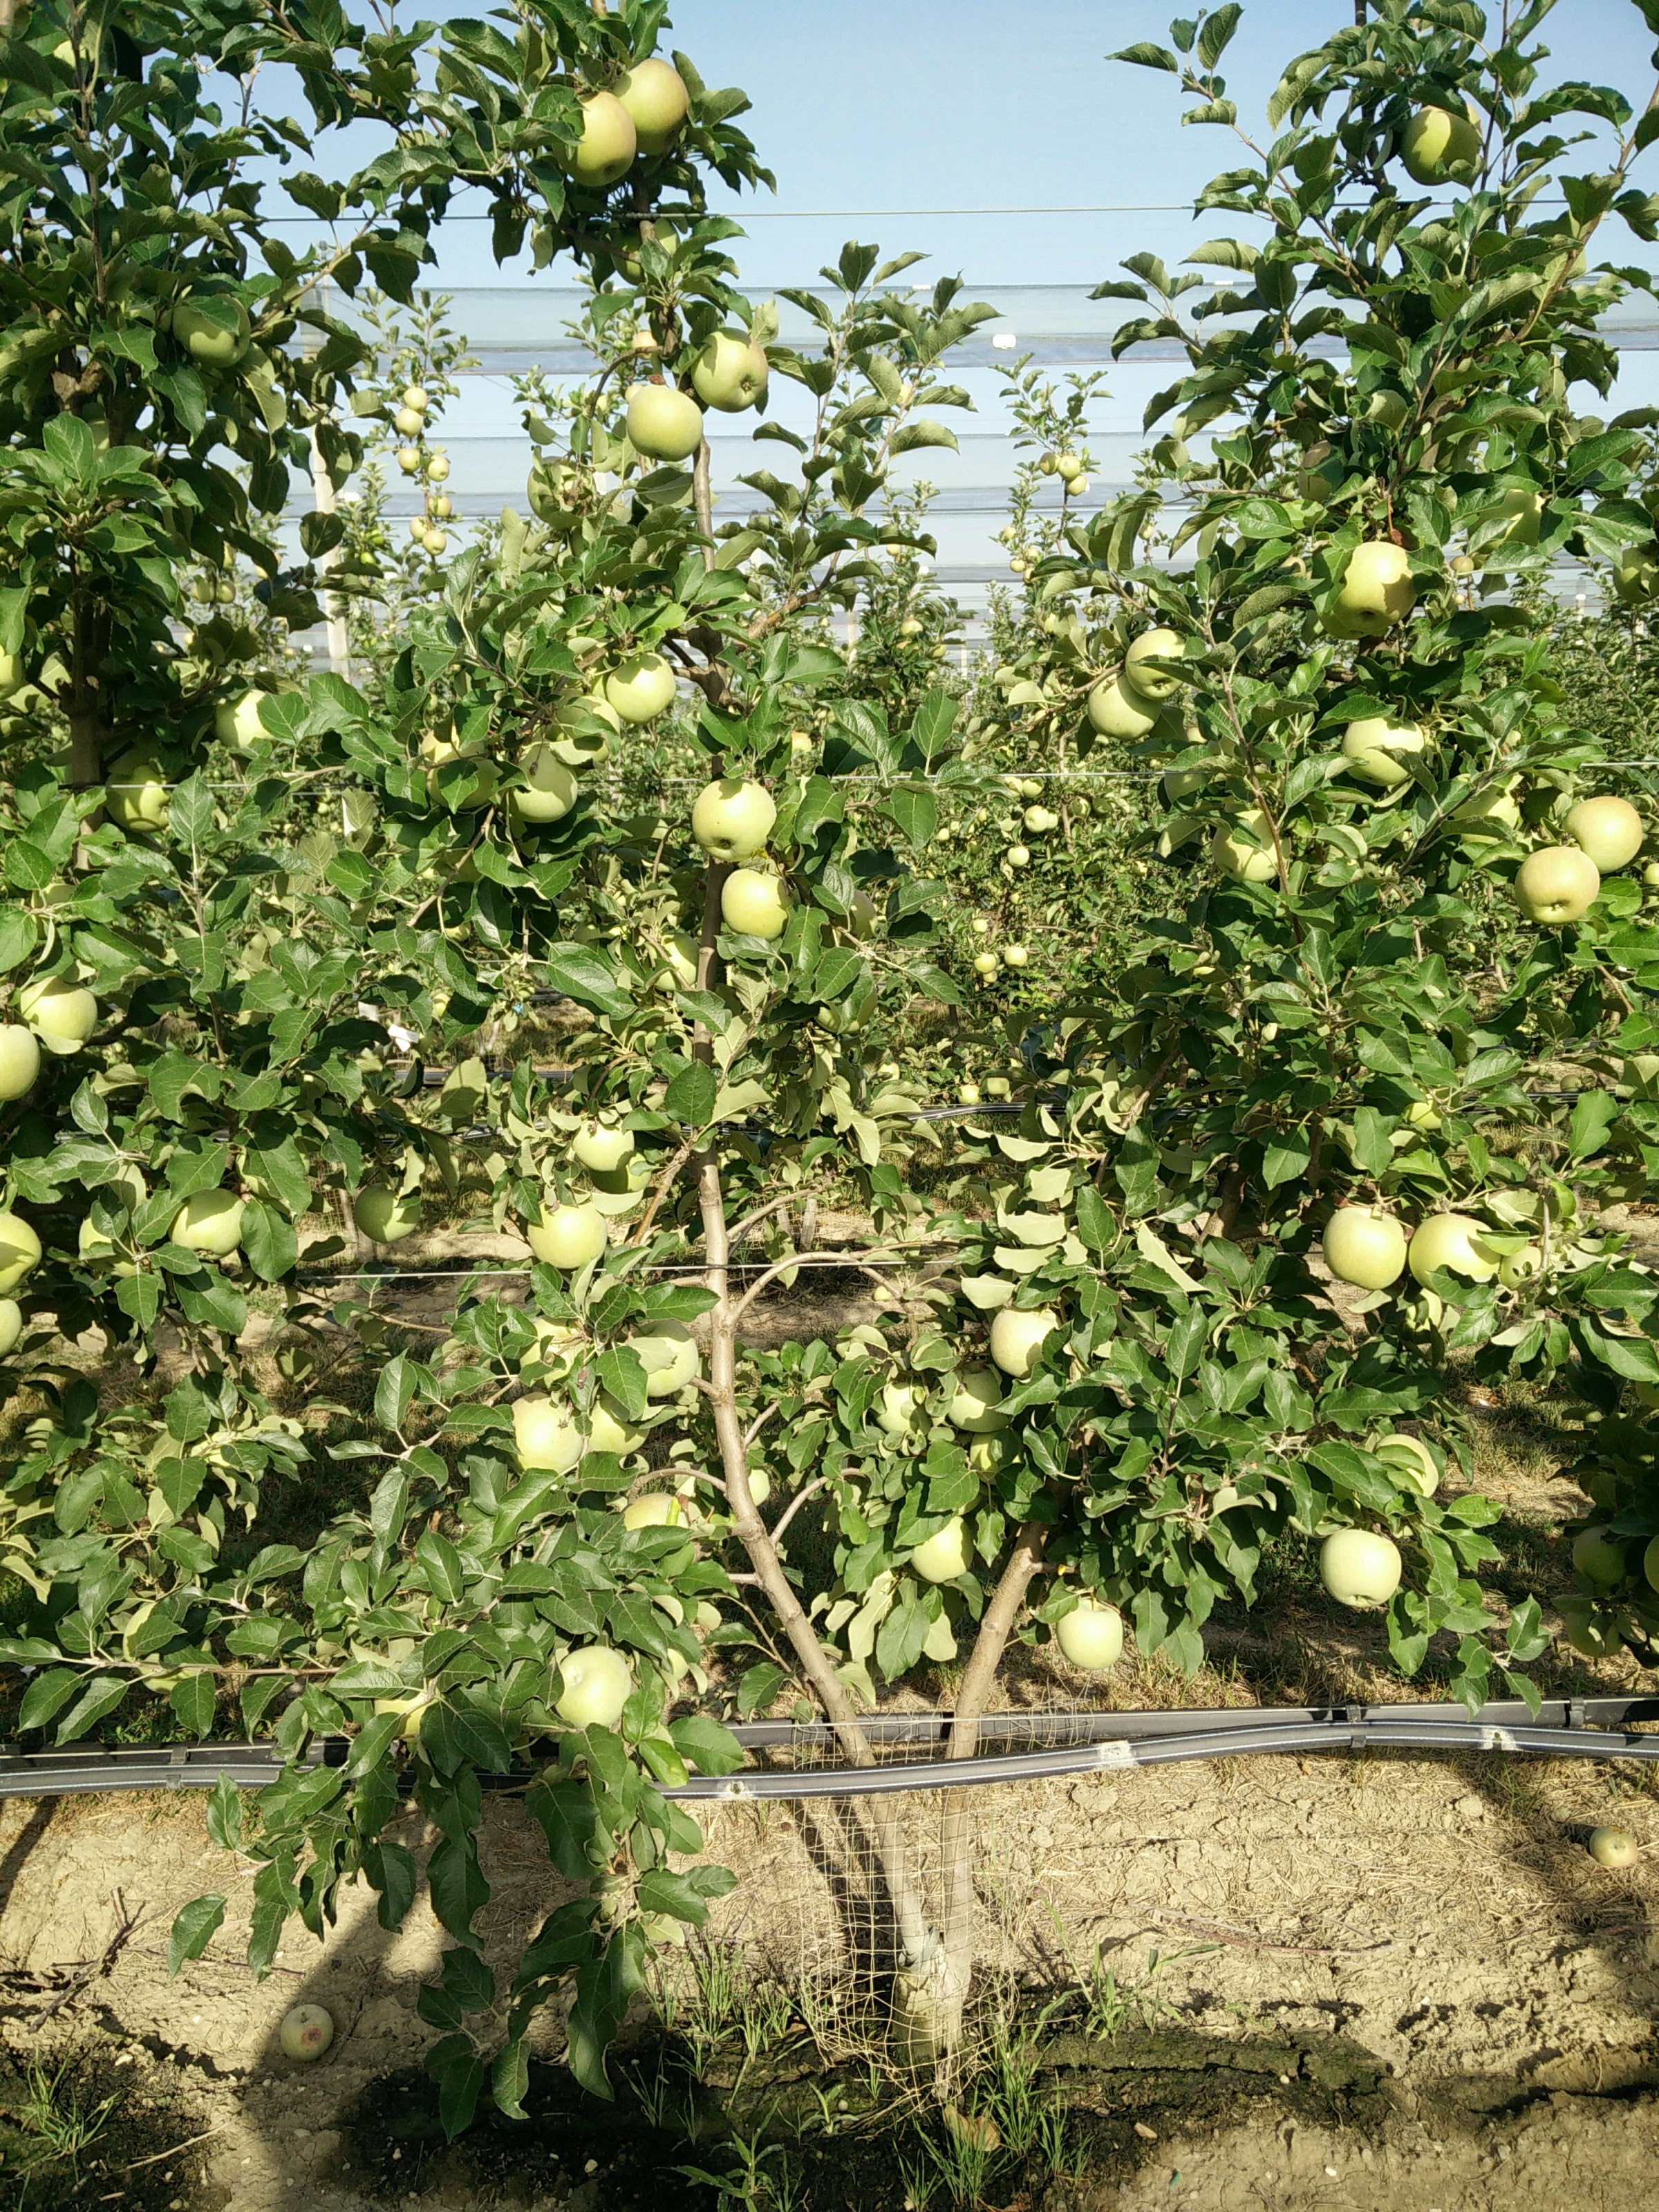apple: (1323, 1202, 1414, 1297), (550, 94, 640, 187), (688, 776, 782, 860), (604, 57, 695, 144), (1401, 1216, 1497, 1294), (1334, 543, 1423, 626), (1400, 102, 1487, 185), (500, 1393, 588, 1472), (1517, 845, 1599, 930), (1557, 789, 1643, 869), (1320, 1525, 1402, 1611), (1341, 707, 1423, 789), (19, 974, 100, 1057), (711, 867, 796, 945), (619, 385, 706, 460), (695, 329, 773, 411), (552, 1648, 631, 1724), (1082, 666, 1163, 741), (496, 749, 579, 823), (523, 1199, 607, 1269), (1049, 1591, 1125, 1669), (165, 1190, 247, 1259), (1116, 624, 1194, 698), (627, 1321, 703, 1398), (987, 1302, 1060, 1377), (604, 651, 677, 721), (207, 693, 285, 756), (908, 1510, 977, 1580), (349, 1185, 422, 1244)
